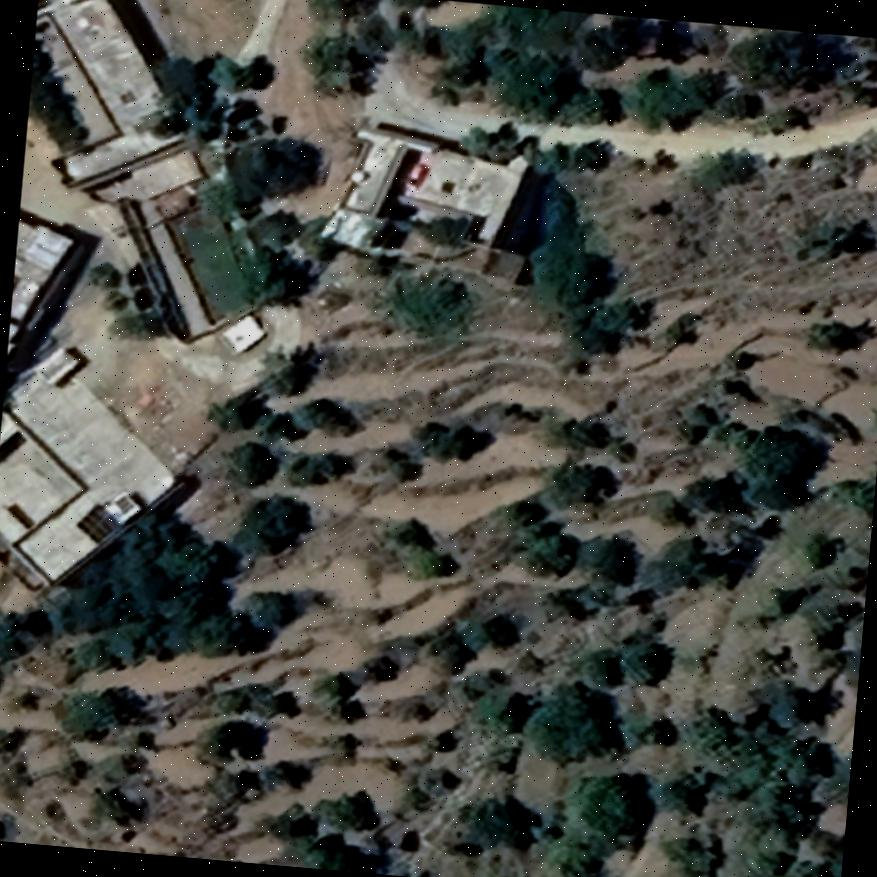Solarpanel: (68, 499, 125, 550)
